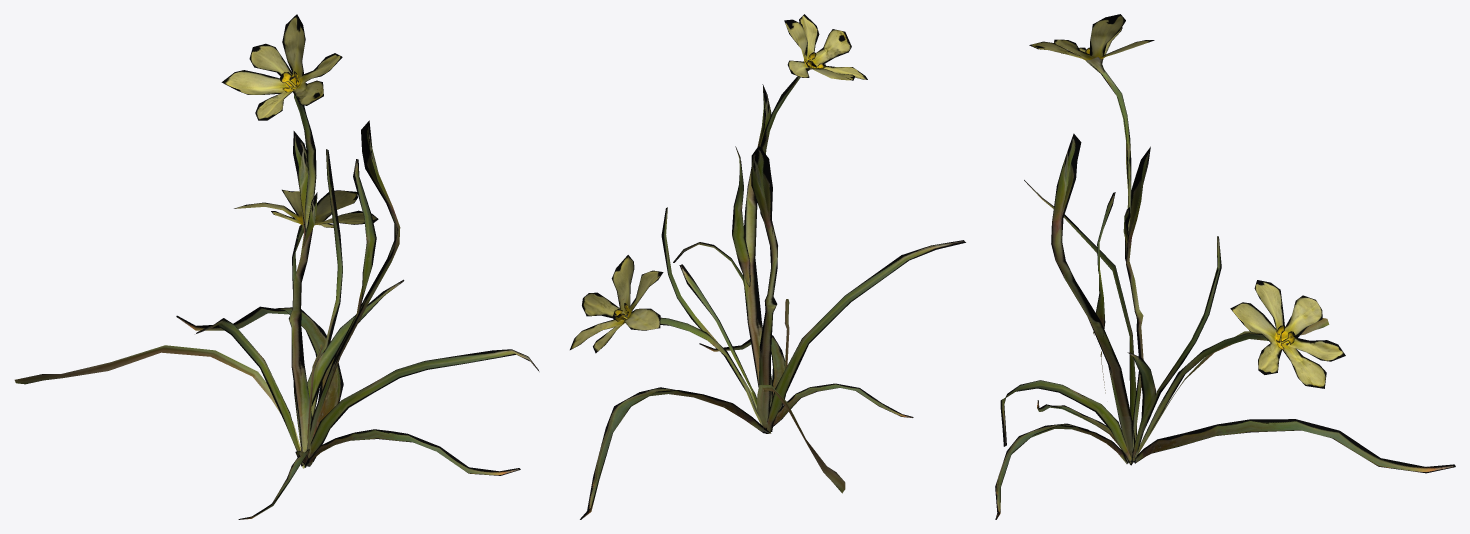
File: flower_empodium_0.gltf
3 renders of one model, left to right at view 1: azimuth 30°, elevation 25°; view 2: azimuth 150°, elevation 25°; view 3: azimuth 270°, elevation 25°, orthographic. The views are drawn at different scales.
Parts seen in each view (by area): view 1: flower_empodium_a_LOD0; view 2: flower_empodium_a_LOD0; view 3: flower_empodium_a_LOD0.
Boxes of the visible parts, left/top/right/bottom form: flower_empodium_a_LOD0: left=14, top=14, right=539, bottom=519; flower_empodium_a_LOD0: left=570, top=14, right=965, bottom=519; flower_empodium_a_LOD0: left=995, top=14, right=1455, bottom=519.
Size of the model in its own units: 0.2174 by 0.2671 by 0.2508.
1 material, 1 textured.
